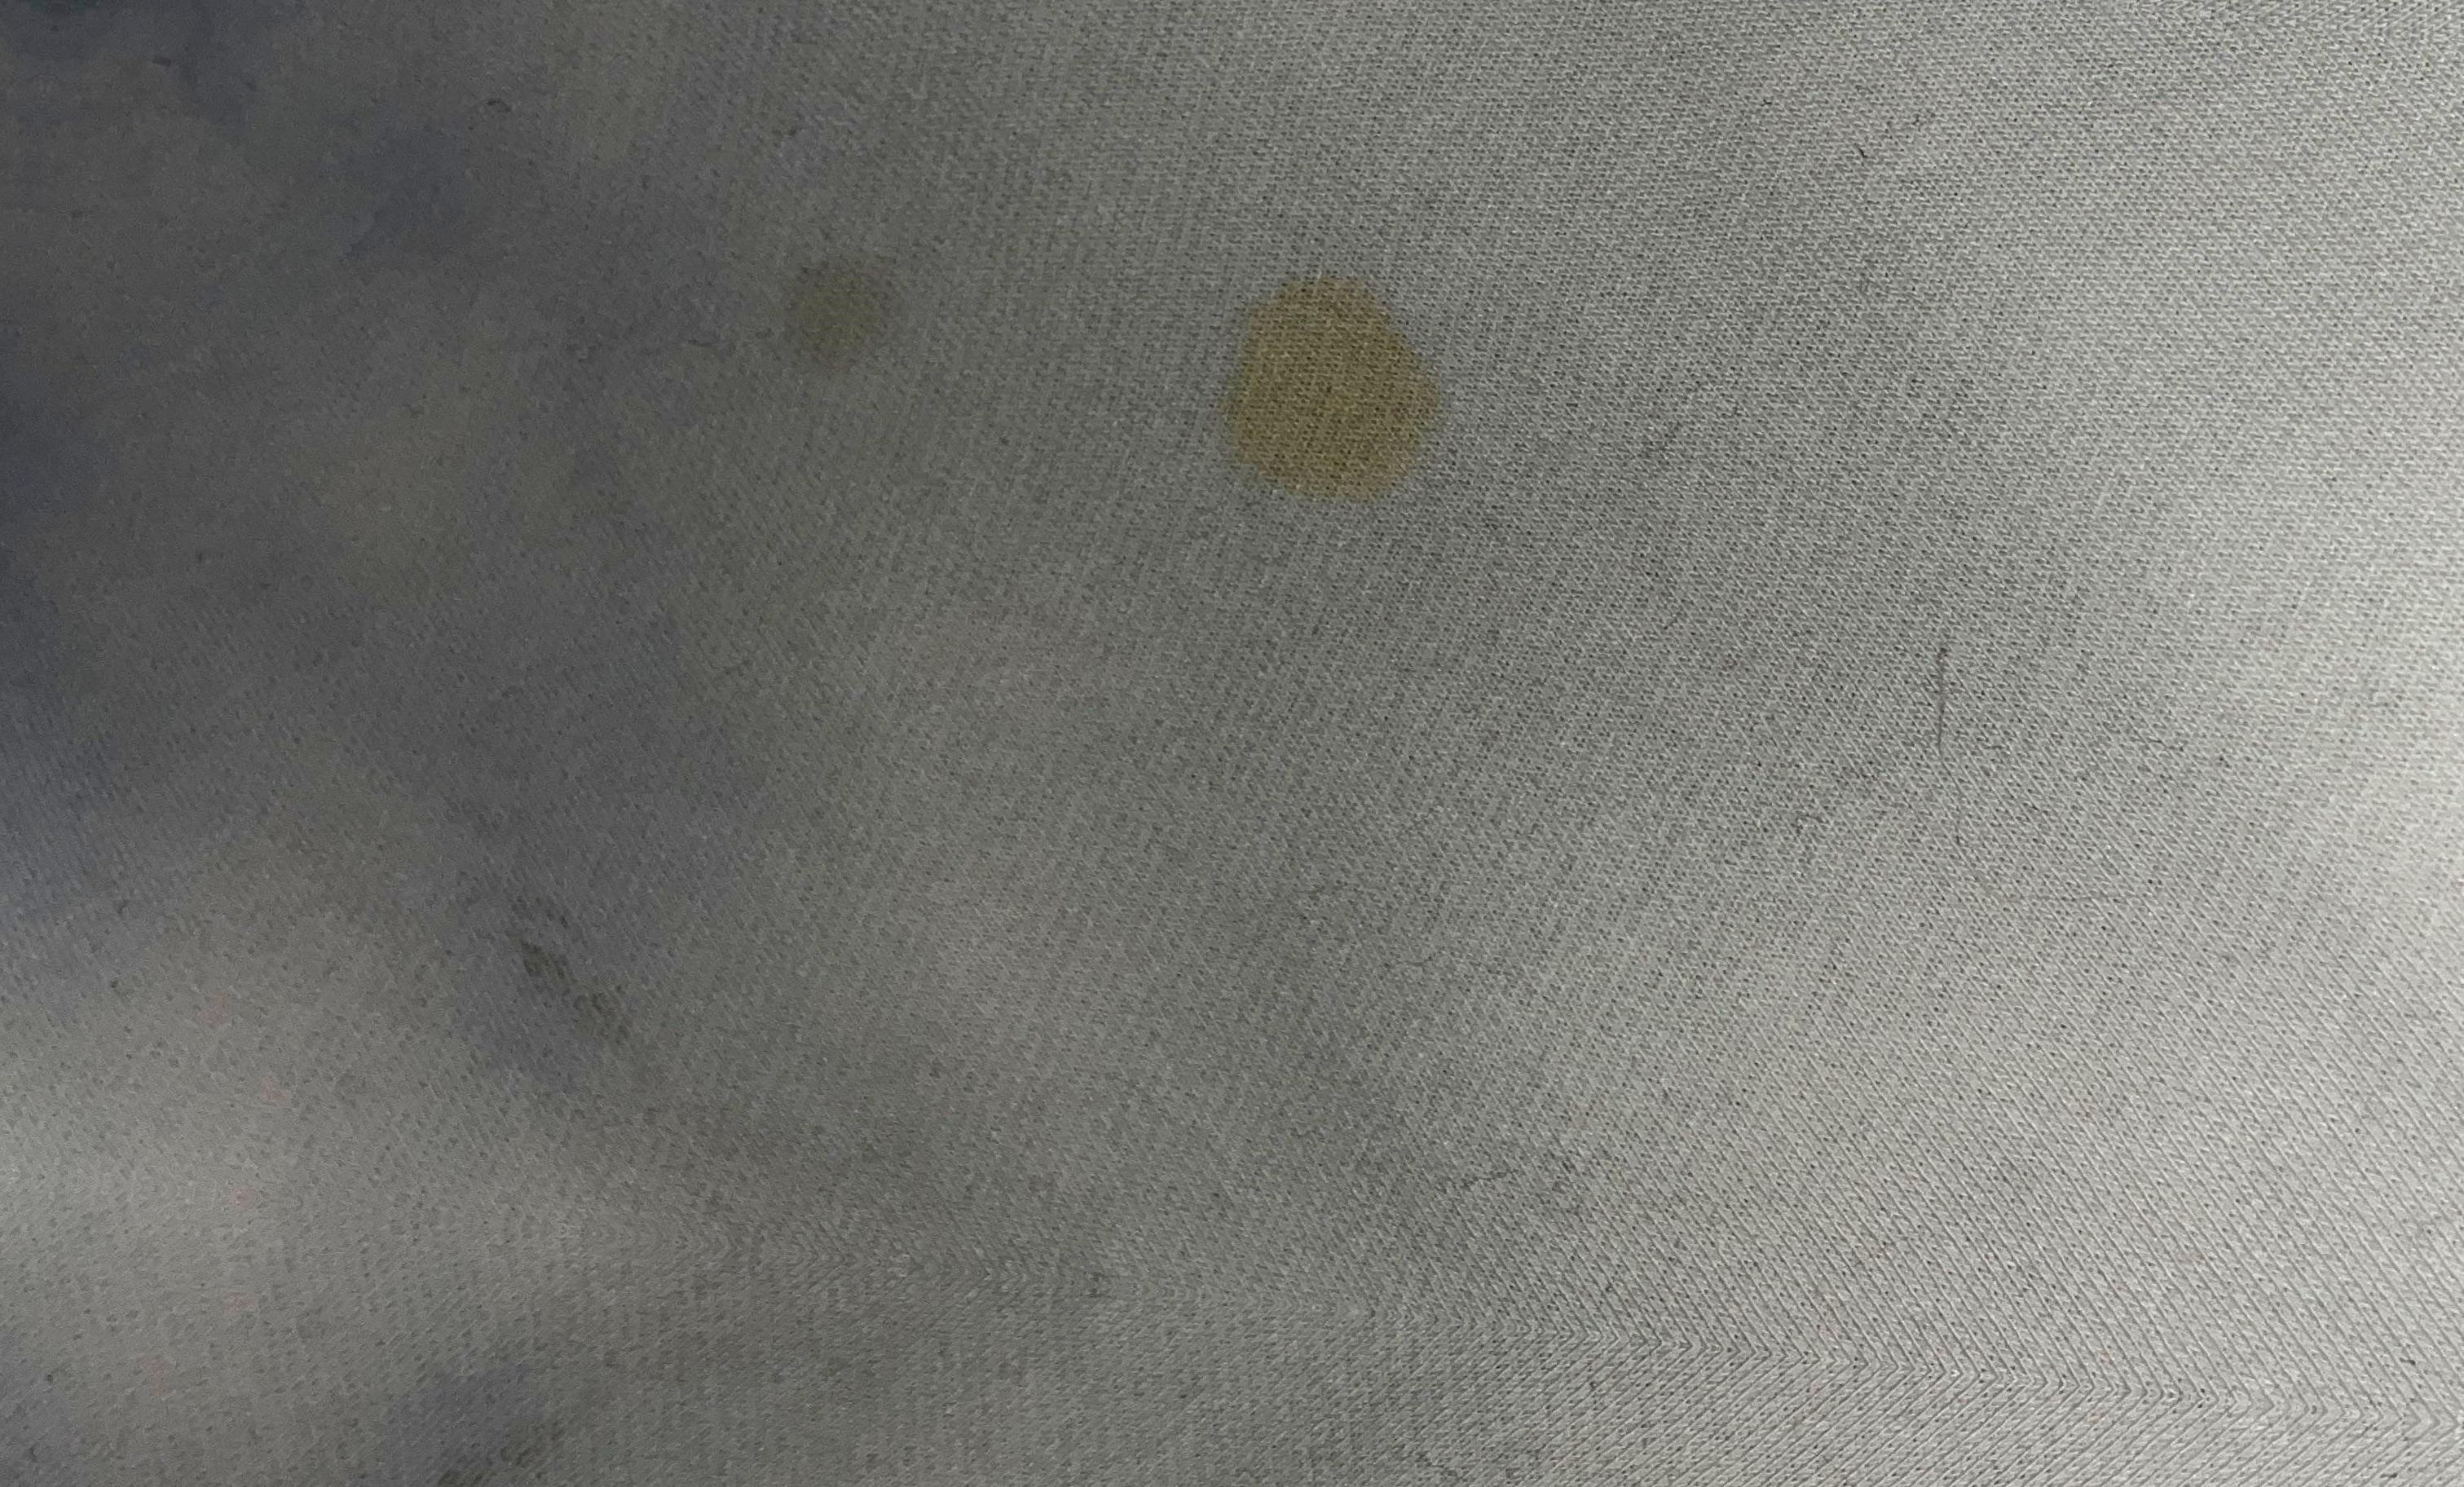stain: (1193, 266, 1482, 526), (737, 241, 896, 382)
